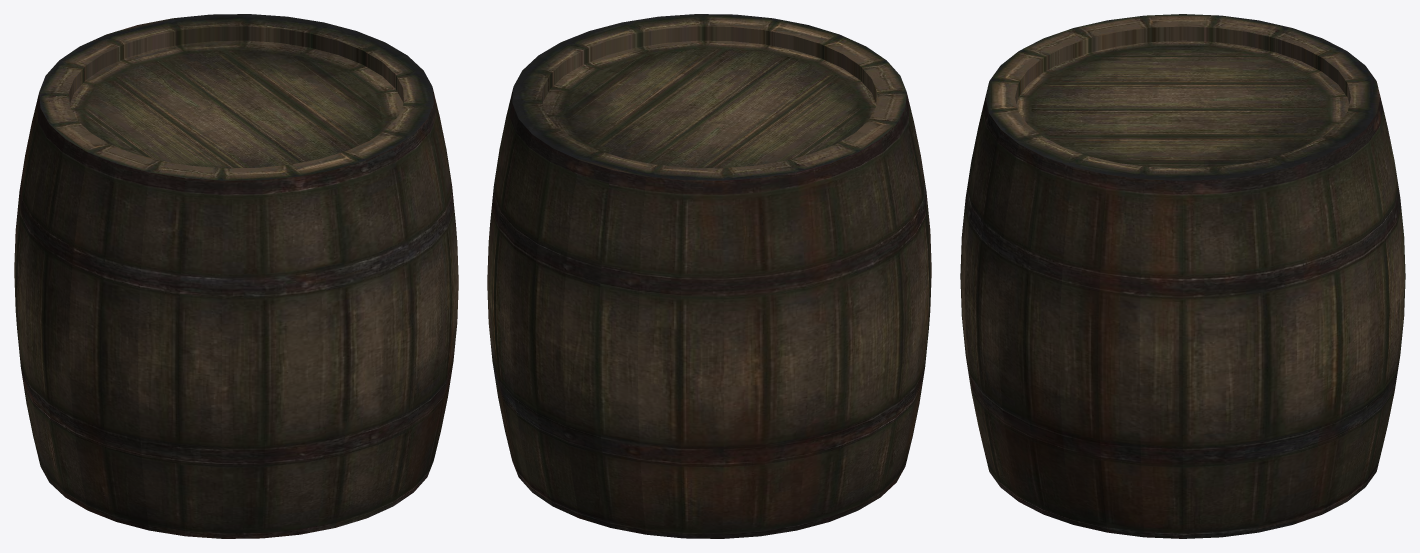
File: barrilV1.fbx
3 views of the same model, side by side, from view 1: azimuth 30°, elevation 25°; view 2: azimuth 150°, elevation 25°; view 3: azimuth 270°, elevation 25° (orthographic).
Parts seen in each view (by area): view 1: Cylinder; view 2: Cylinder; view 3: Cylinder.
Part boxes in pixels (x1=…): Cylinder: x1=14, y1=14, x2=458, y2=538; Cylinder: x1=487, y1=14, x2=931, y2=538; Cylinder: x1=960, y1=14, x2=1405, y2=538.
Bounding box in the file's own units: 255 × 227 × 255.
1 material, 1 textured.
